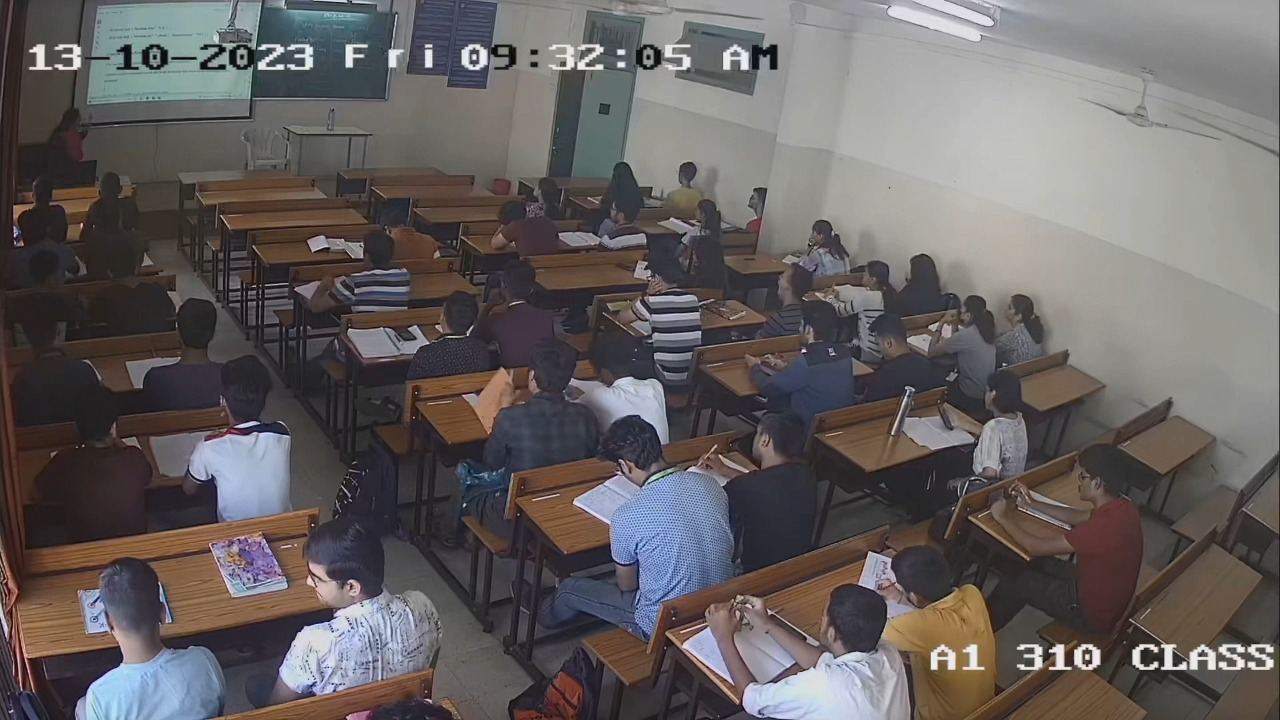cell-phones: (763, 611, 805, 646), (935, 400, 956, 436), (984, 483, 1008, 512), (392, 325, 418, 342), (614, 261, 636, 274)
person: (701, 579, 915, 720), (988, 447, 1142, 613), (394, 289, 491, 382), (950, 370, 1029, 480), (666, 239, 729, 286)
